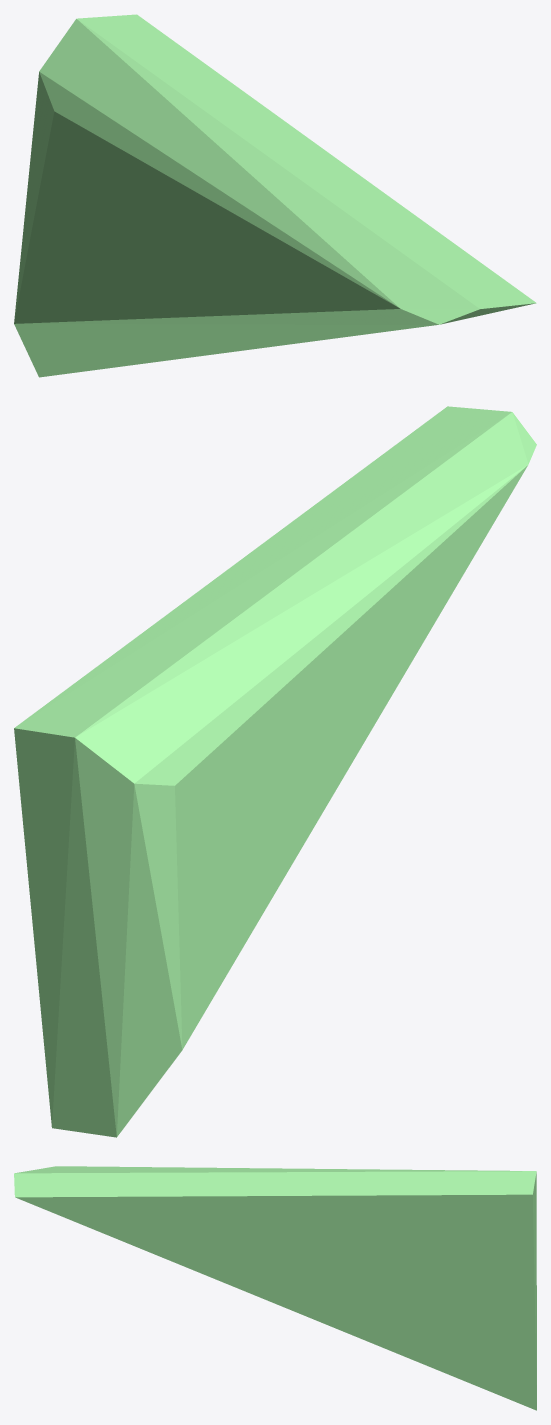
File: UMIRobot_UMIRobot_link_4_convex_coll_7.dae
The picture shows the model from 3 angles, top to bottom: view 1: azimuth 30°, elevation 25°; view 2: azimuth 150°, elevation 25°; view 3: azimuth 270°, elevation 25°; orthographic projection. The views are drawn at different scales.
Visible parts, largest first — view 1: node; view 2: node; view 3: node.
Part boxes in pixels (x1,y1,x2,y2): node: [14, 14, 536, 377]; node: [14, 406, 536, 1137]; node: [14, 1166, 536, 1410].
Size of the model in its own units: 0.00838 by 0.02 by 0.0406.
